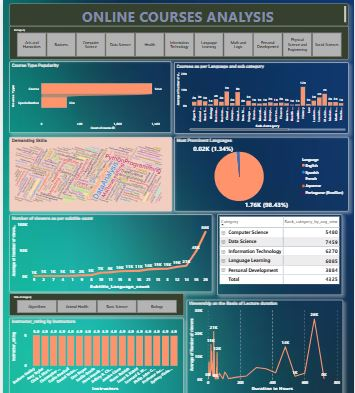

This screenshot's page, from the dashboard's own definition file:
{"tool":"powerbi","page":{"name":"Page 1","canvas":[1300,1800],"ordinal":0},"visuals":[{"type":"textbox","box":[21.7,11.7,1256.7,83.3],"z":0},{"type":"slicer","fields":{"Values":["Online_Courses.Category"]},"box":[21.7,95,1256.7,123.3],"z":1000},{"type":"barChart","title":"Course Type Popularity ","fields":{"Category":["Online_Courses.Course Type"],"Y":["Online_Courses.course ID"]},"box":[21.7,226.7,600,265],"z":2000},{"type":"clusteredColumnChart","title":"Courses as per Language and sub categury ","fields":{"Category":["Online_Courses.Sub-Category","Online_Courses.Language"],"Y":["Online_Courses.Number of viewers"]},"box":[631.7,230,646.7,265],"z":3000},{"type":"WordCloud1447959067750","title":"Demanding Skills","fields":{"Category":["Online_Courses.Skills"]},"box":[21.7,505,603.3,276.7],"z":4000},{"type":"pieChart","title":"Most Prominent Languages","fields":{"Category":["Online_Courses.Language"],"Y":["Online_Courses.course ID"]},"box":[631.7,505,646.7,276.7],"z":5000},{"type":"pivotTable","title":" Top 5 categories based on user perferences","fields":{"Rows":["Online_Courses.Category","Online_Courses.Language"],"Values":["Online_Courses.Rank_category_by_avg_view"]},"box":[793.3,793.3,463.3,300],"z":6000},{"type":"lineChart","title":"Number of viewers as per subtitle count","fields":{"Category":["Online_Courses.Sublitle_Language_count"],"Y":["Online_Courses.Number of viewers"]},"box":[21.7,793.3,751.7,288.3],"z":7000},{"type":"clusteredColumnChart","fields":{"Category":["Teachers.Instructors"],"Y":["Teachers.Instructor_rating"]},"box":[21.7,1175,646.7,285],"z":8000},{"type":"slicer","fields":{"Values":["Teachers.Sub-Category"]},"box":[21.7,1086.7,646.7,81.7],"z":9000},{"type":"lineChart","title":"Viewership on the Basis of Lecture duration","fields":{"Category":["Online_Courses.Duration in Hours"],"Y":["Online_Courses.Number of viewers"]},"box":[680,1108.3,580,351.7],"z":10000},{"type":"pivotTable","fields":{"Rows":["Online_Courses.Category","Online_Courses.Sub-Category"],"Values":["Online_Courses.Count of Skills Provided","Online_Courses.Duration in Hours"]},"box":[201.7,1475,858.3,325],"z":11000}]}

Visuals, with their boxes on the page's 1300x1800 design canvas (x1, y1, x2, y2). These are canvas units, not pixel positions in the 355x393 screenshot, which may show the page scaled, cropped or inside an application window:
textbox: [22,12,1278,95]
slicer - Online_Courses.Category: [22,95,1278,218]
"Course Type Popularity " barChart: [22,227,622,492]
"Courses as per Language and sub categury " clusteredColumnChart: [632,230,1278,495]
"Demanding Skills" WordCloud1447959067750: [22,505,625,782]
"Most Prominent Languages" pieChart: [632,505,1278,782]
" Top 5 categories based on user perferences" pivotTable: [793,793,1257,1093]
"Number of viewers as per subtitle count" lineChart: [22,793,773,1082]
clusteredColumnChart - Teachers.Instructors x Teachers.Instructor_rating: [22,1175,668,1460]
slicer - Teachers.Sub-Category: [22,1087,668,1168]
"Viewership on the Basis of Lecture duration" lineChart: [680,1108,1260,1460]
pivotTable - Online_Courses.Category x Online_Courses.Sub-Category: [202,1475,1060,1800]
